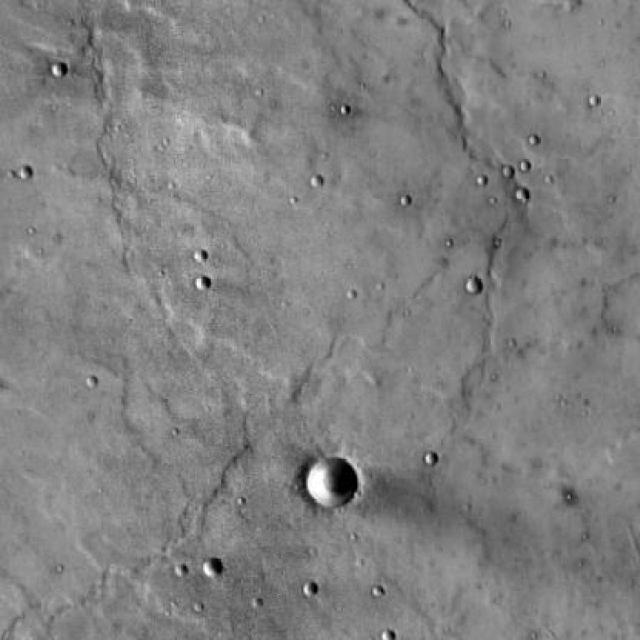crater: (307, 458, 358, 509), (205, 560, 223, 578), (464, 278, 481, 294)
